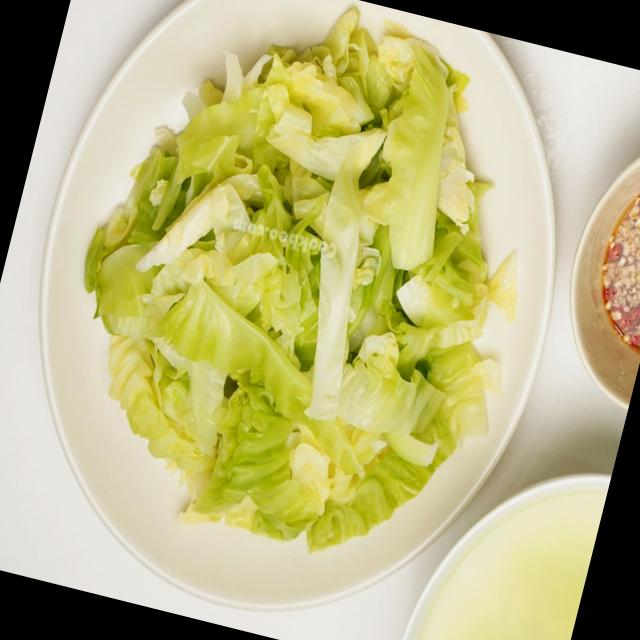bap cai luoc: (83, 10, 516, 550)
nuoc mam: (601, 194, 640, 349)
